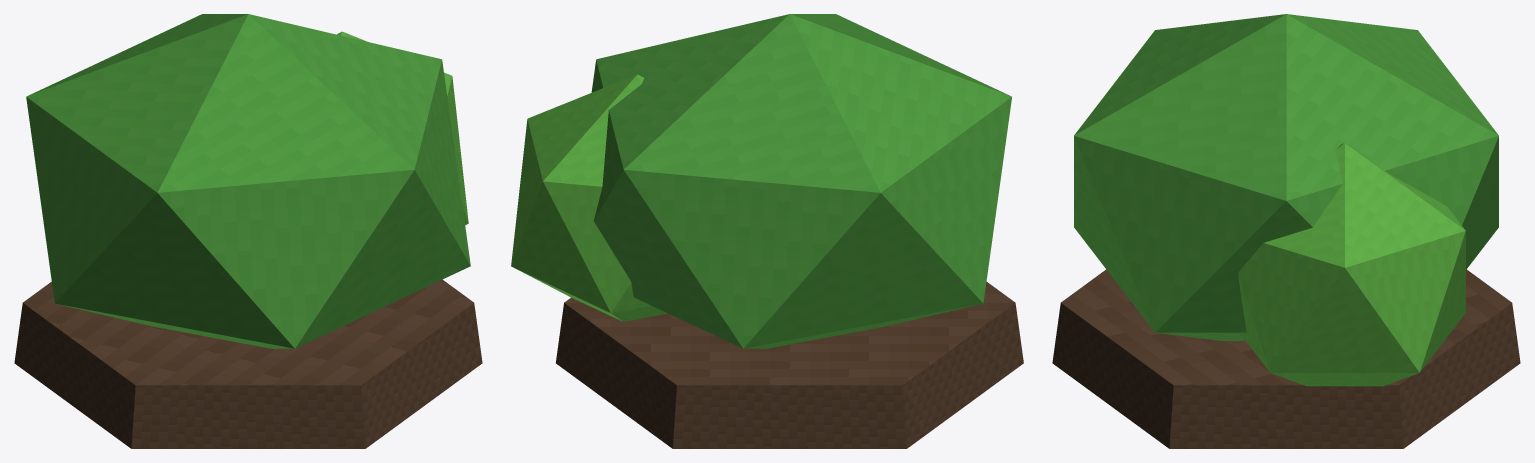
File: shrub-lod1.glb
3 views of the same model, side by side, from view 1: azimuth 30°, elevation 25°; view 2: azimuth 150°, elevation 25°; view 3: azimuth 270°, elevation 25° (orthographic).
Visible parts, largest first — view 1: shrub-lod1; view 2: shrub-lod1; view 3: shrub-lod1.
Boxes of the visible parts, x1,y1,x2,y2 form: shrub-lod1: (14,14,482,448); shrub-lod1: (511,14,1023,448); shrub-lod1: (1052,14,1520,448).
Size of the model in its own units: 1.18 by 0.922 by 1.12.
1 material, 1 textured.
